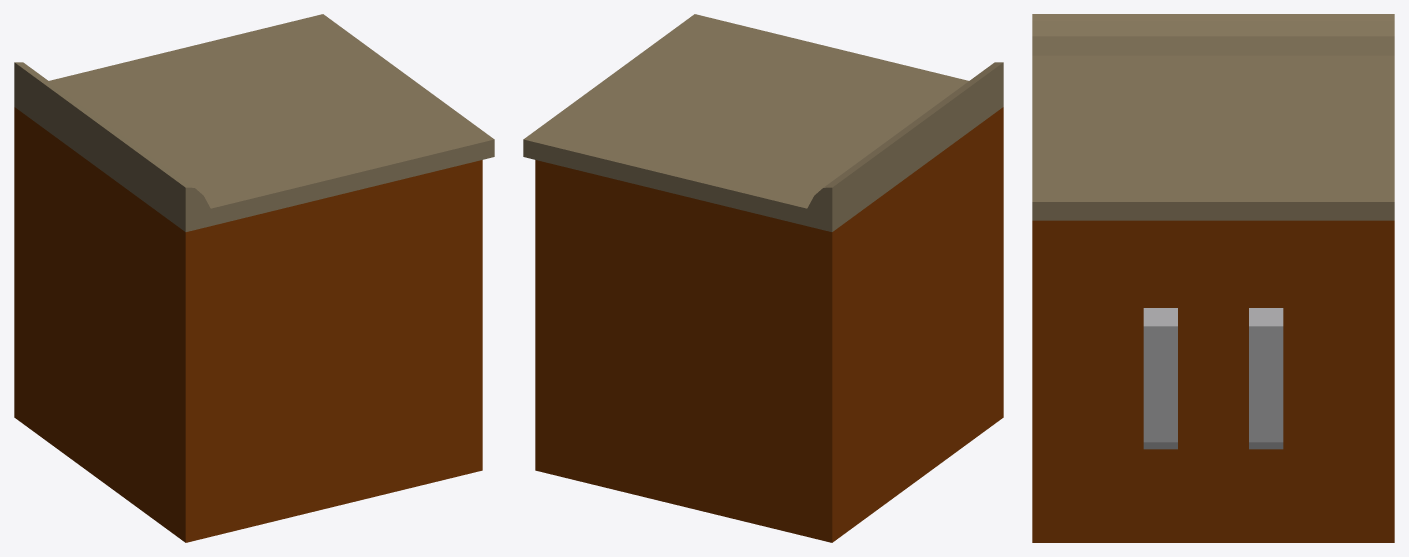
Rendered from bancadaCozinhaENecroterio.fbx.
3 renders of one model, left to right at view 1: azimuth 30°, elevation 25°; view 2: azimuth 150°, elevation 25°; view 3: azimuth 270°, elevation 25°, orthographic. The views are drawn at different scales.
Parts seen in each view (by area): view 1: Cube; view 2: Cube; view 3: Cube.
Part boxes in pixels (bbox=[...]): Cube: bbox=[14, 14, 494, 542]; Cube: bbox=[523, 14, 1003, 542]; Cube: bbox=[1032, 14, 1394, 542].
Bounding box in the file's own units: 136 × 150 × 131.
